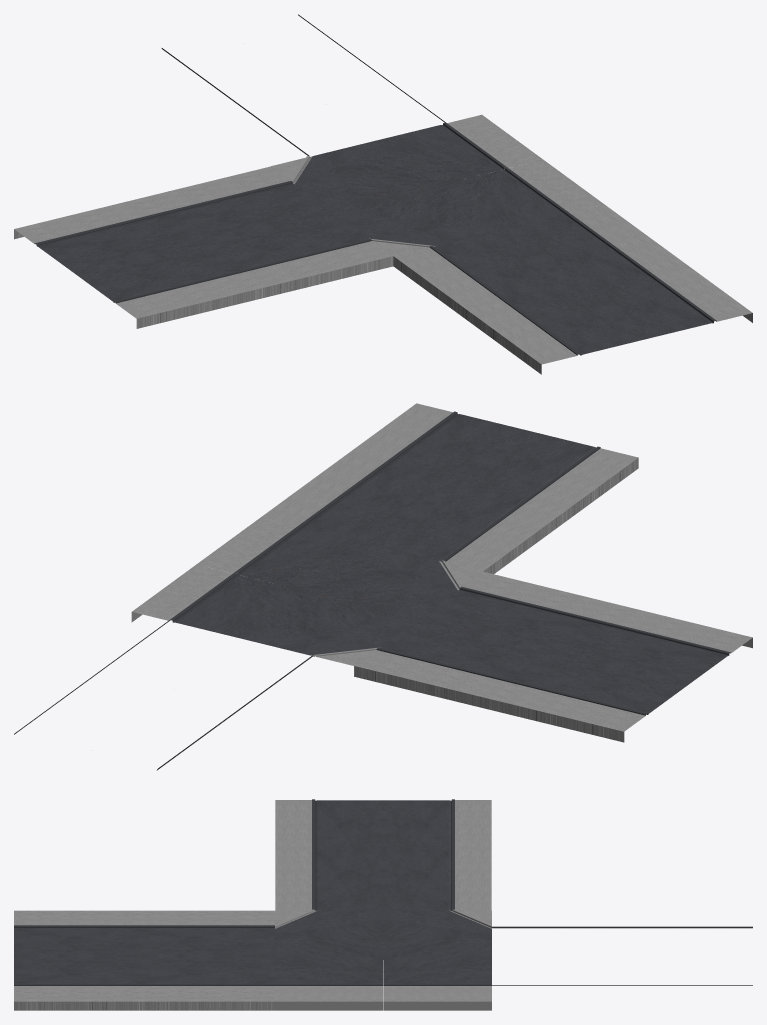
Rendered from TJunctionRightArm.dae.
3 renders of one model, top to bottom at view 1: azimuth 30°, elevation 25°; view 2: azimuth 150°, elevation 25°; view 3: azimuth 270°, elevation 25°, orthographic. The views are drawn at different scales.
Parts seen in each view (by area): view 1: RoadStraight.002; view 2: RoadStraight.002; view 3: RoadStraight.002.
Part boxes in pixels (x1,y1,x2,y2): RoadStraight.002: (14,14,752,374); RoadStraight.002: (14,403,752,770); RoadStraight.002: (14,799,752,1010).
Bounding box in the file's own units: 45.61 × 70.68 × 1.05.
Materials: 3 (3 with a texture image).
